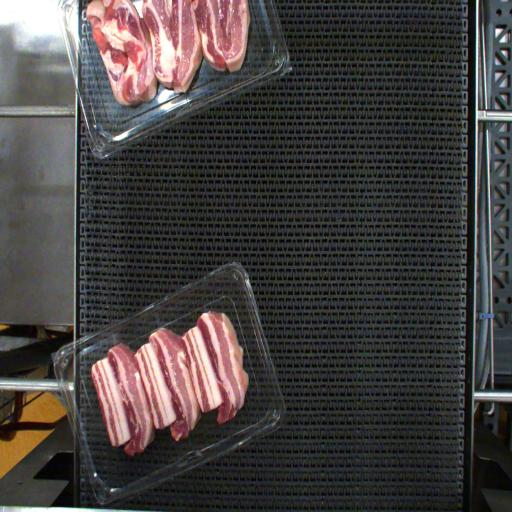packaging-error: (152, 312, 162, 329), (108, 331, 120, 344)
